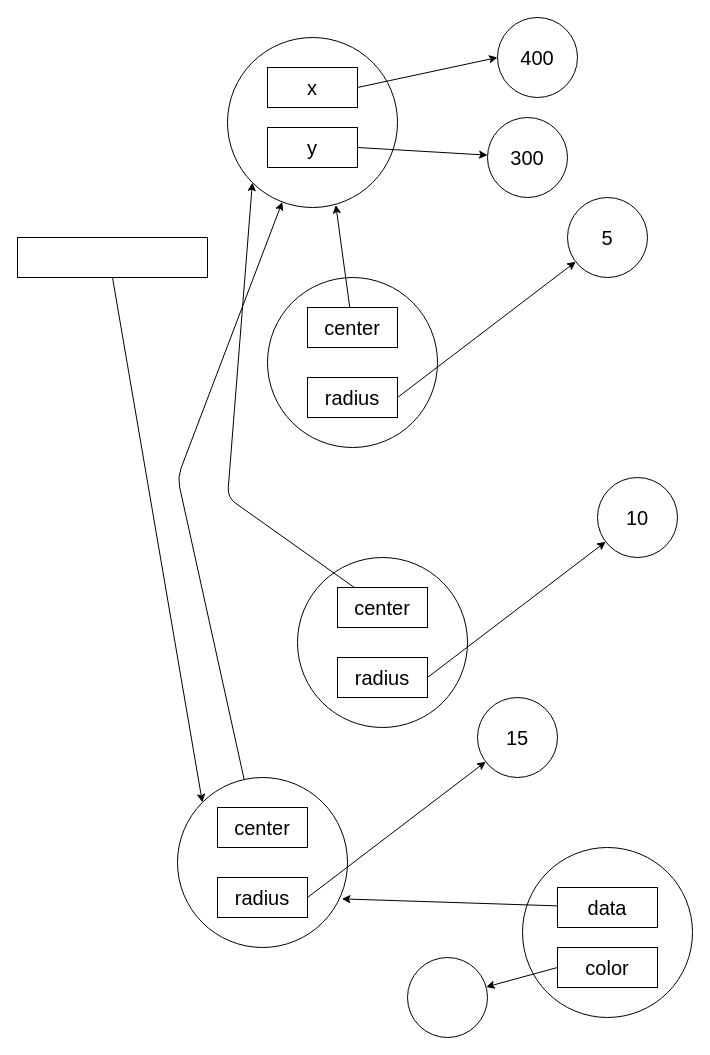
The diagram is 710 pixels wide and 1055 high, and some of its shapes have lost their labels. The centre of each missing label's shape, as x and y in pixels:
explosion: (x=112, y=257)
red: (x=447, y=997)
